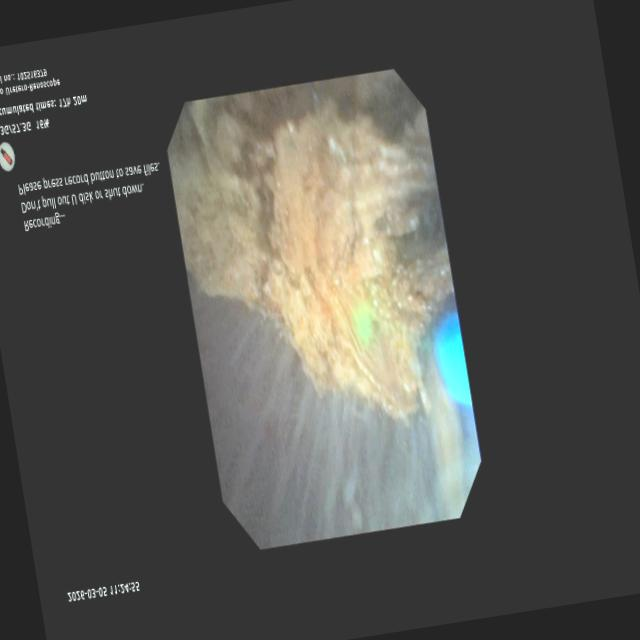laser_dot: (352, 304, 374, 346)
stone-new: (168, 72, 454, 419), (422, 350, 468, 519)
